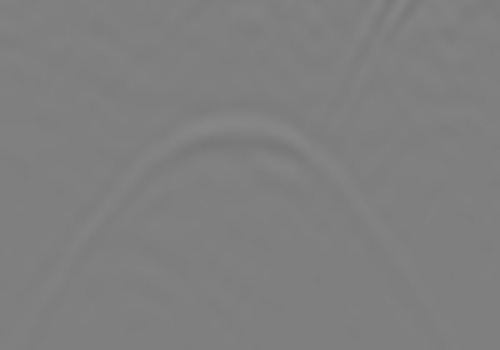hyperbola: (41, 103, 447, 326)
